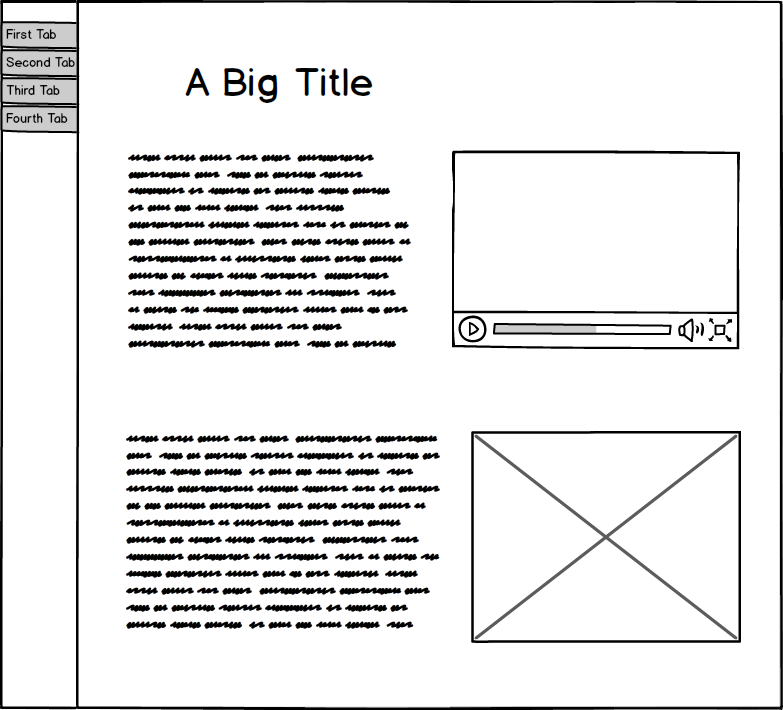h1: (175, 57, 385, 108)
image: (464, 427, 747, 647)
p: (119, 430, 448, 633), (122, 145, 422, 357)
sidebar: (1, 15, 90, 151)
video: (446, 144, 747, 355)
